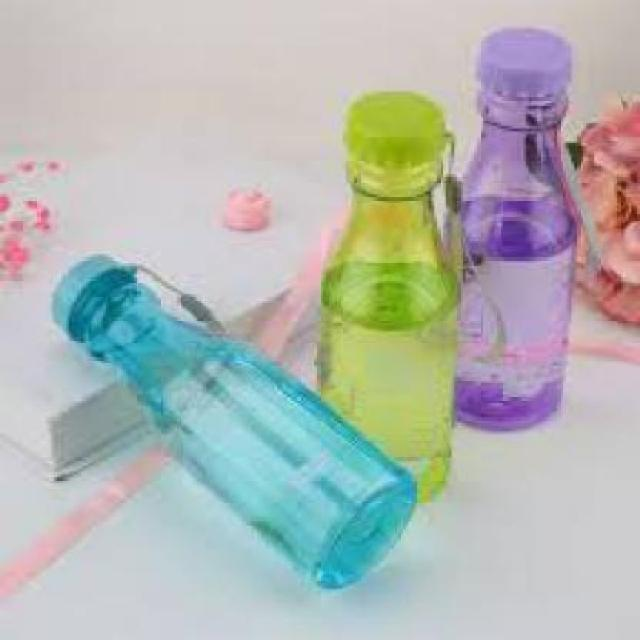Drinking: (38, 207, 404, 596), (296, 74, 477, 535), (471, 11, 586, 443)
